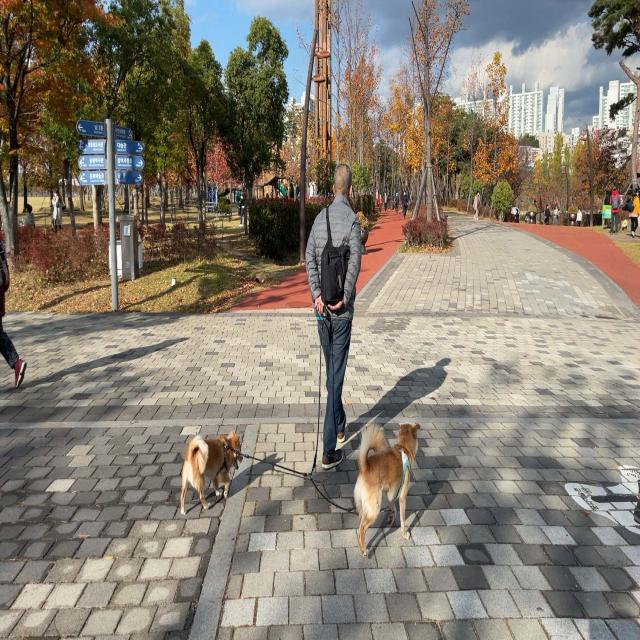Leashed_Dog: (180, 290, 330, 516), (310, 298, 420, 557)
